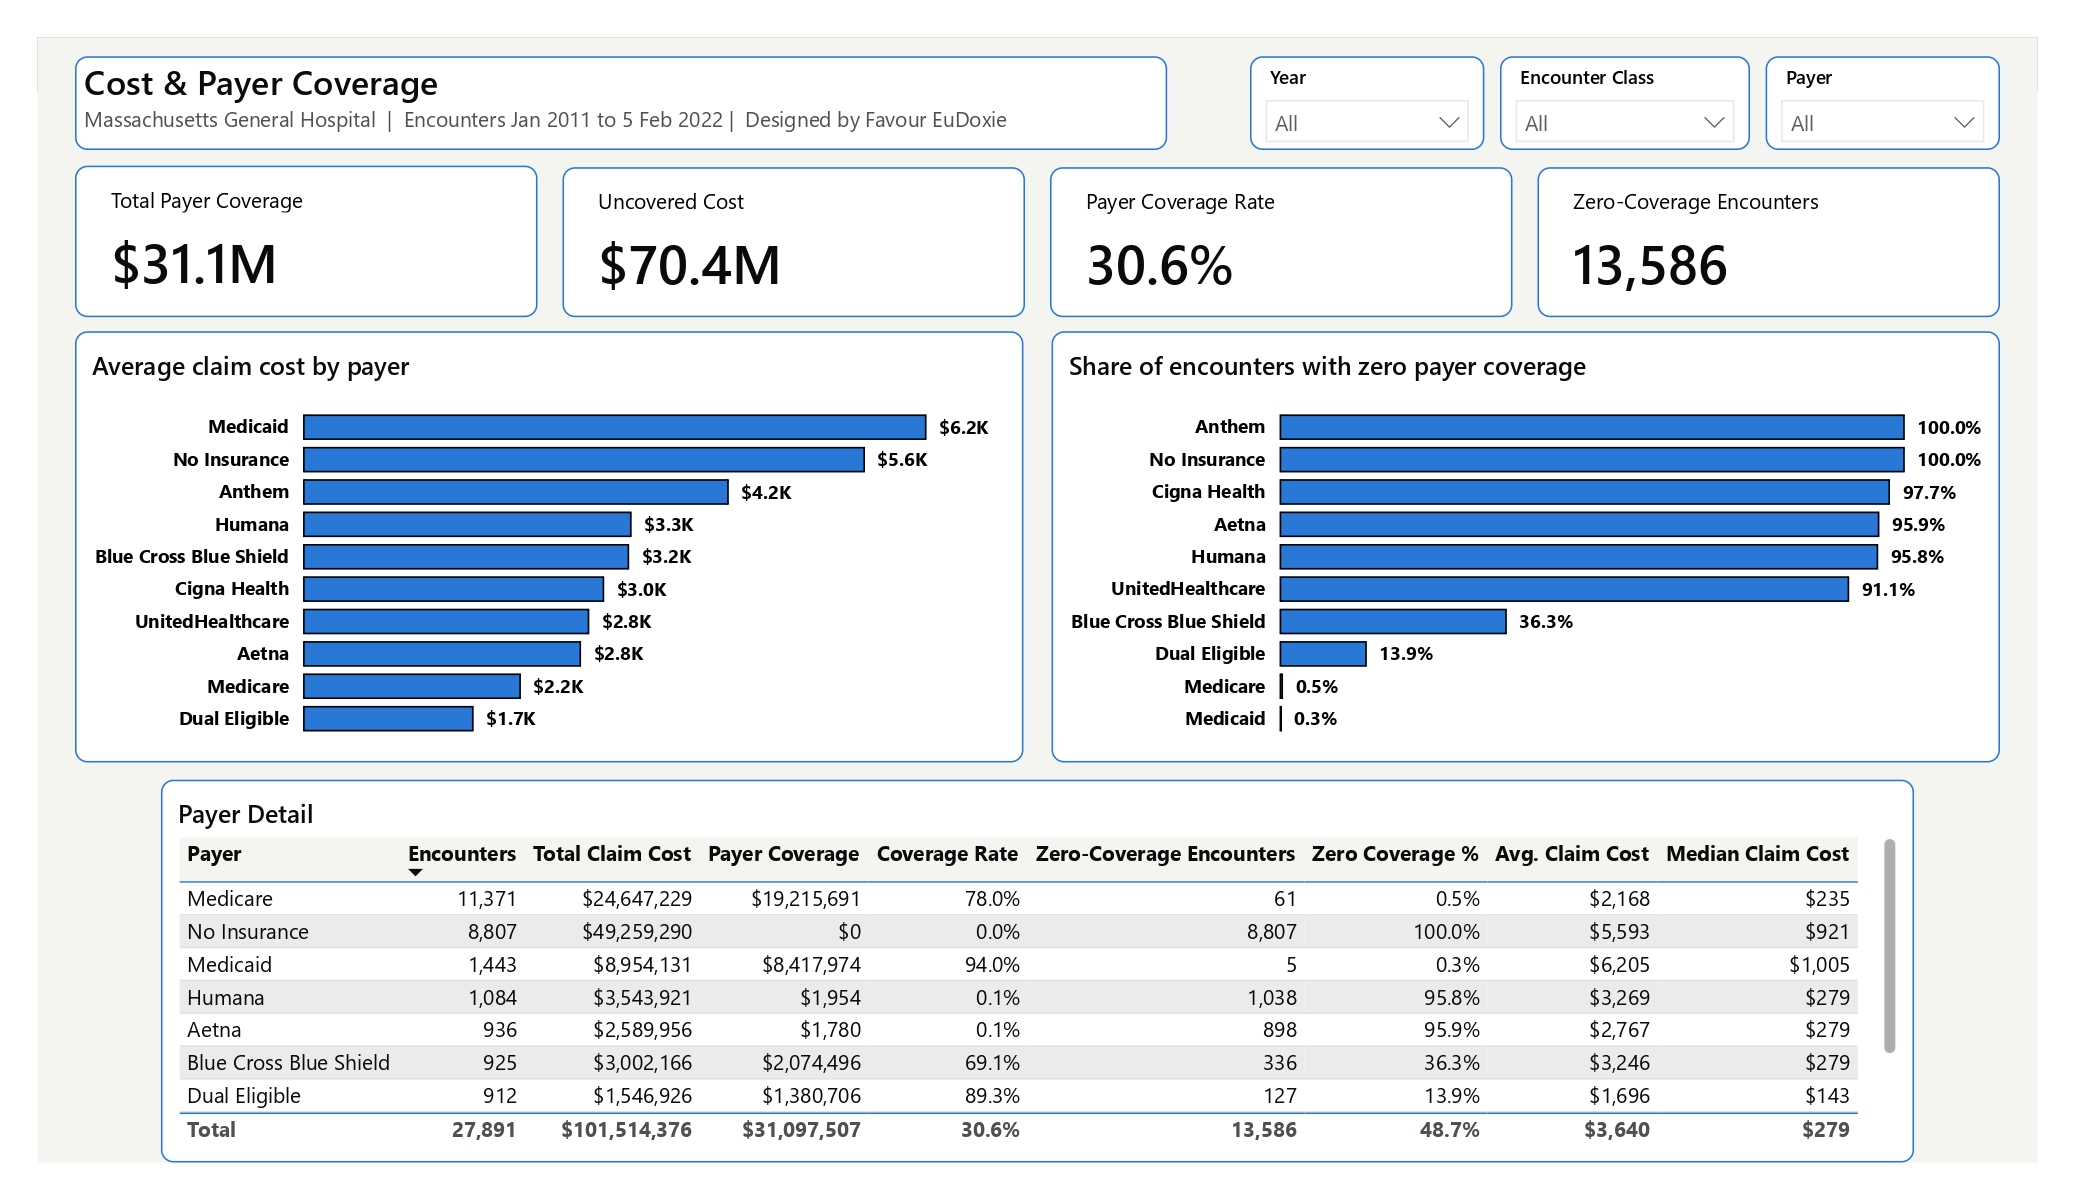

This screenshot's page, from the dashboard's own definition file:
{"tool":"powerbi","page":{"name":"Cost & Payer Coverage","canvas":[1280,720],"ordinal":3},"visuals":[{"type":"textbox","box":[24,12,699,60],"z":1000},{"type":"slicer","fields":{"Values":["Date.Year"]},"box":[776,12,150,60],"z":3000},{"type":"slicer","fields":{"Values":["Encounters.Encounter Class"]},"box":[936,12,160,60],"z":4000},{"type":"slicer","fields":{"Values":["Payers.Payer"]},"box":[1106,12,150,60],"z":5000},{"type":"cardVisual","fields":{"Data":["Encounters.Total Payer Coverage"]},"box":[24.3,81.9,295.7,97.1],"z":6000},{"type":"cardVisual","fields":{"Data":["Encounters.Uncovered Cost"]},"box":[336,83,296,96],"z":7000},{"type":"cardVisual","fields":{"Data":["Encounters.Payer Coverage Rate %"]},"box":[648,83,296,96],"z":8000},{"type":"cardVisual","fields":{"Data":["Encounters.Zero Coverage Encounters"]},"box":[960,83,296,96],"z":9000},{"type":"clusteredBarChart","title":"Average claim cost by payer","fields":{"Category":["Payers.Payer"],"Y":["Encounters.Avg Claim Cost"]},"box":[24.3,188.1,606.6,276],"z":10000},{"type":"clusteredBarChart","title":"Share of encounters with zero payer coverage","fields":{"Category":["Payers.Payer"],"Y":["Encounters.Zero Coverage %"]},"box":[649.4,188.1,606.6,276],"z":11000},{"type":"tableEx","title":"Payer Detail","fields":{"Values":["Payers.Payer","Encounters.Total Encounters","Encounters.Total Claim Cost","Encounters.Total Payer Coverage","Encounters.Payer Coverage Rate %","Encounters.Zero Coverage Encounters","Encounters.Zero Coverage %","Encounters.Avg Claim Cost","Encounters.Median Claim Cost"]},"box":[78.9,474.7,1122.3,245.7],"z":12000}]}

Visuals, with their boxes on the page's 1280x720 design canvas (x1, y1, x2, y2). These are canvas units, not pixel positions in the 2075x1200 screenshot, which may show the page scaled, cropped or inside an application window:
textbox: 24 12 723 72
slicer - Date.Year: 776 12 926 72
slicer - Encounters.Encounter Class: 936 12 1096 72
slicer - Payers.Payer: 1106 12 1256 72
cardVisual - Encounters.Total Payer Coverage: 24 82 320 179
cardVisual - Encounters.Uncovered Cost: 336 83 632 179
cardVisual - Encounters.Payer Coverage Rate %: 648 83 944 179
cardVisual - Encounters.Zero Coverage Encounters: 960 83 1256 179
"Average claim cost by payer" clusteredBarChart: 24 188 631 464
"Share of encounters with zero payer coverage" clusteredBarChart: 649 188 1256 464
"Payer Detail" tableEx: 79 475 1201 720
